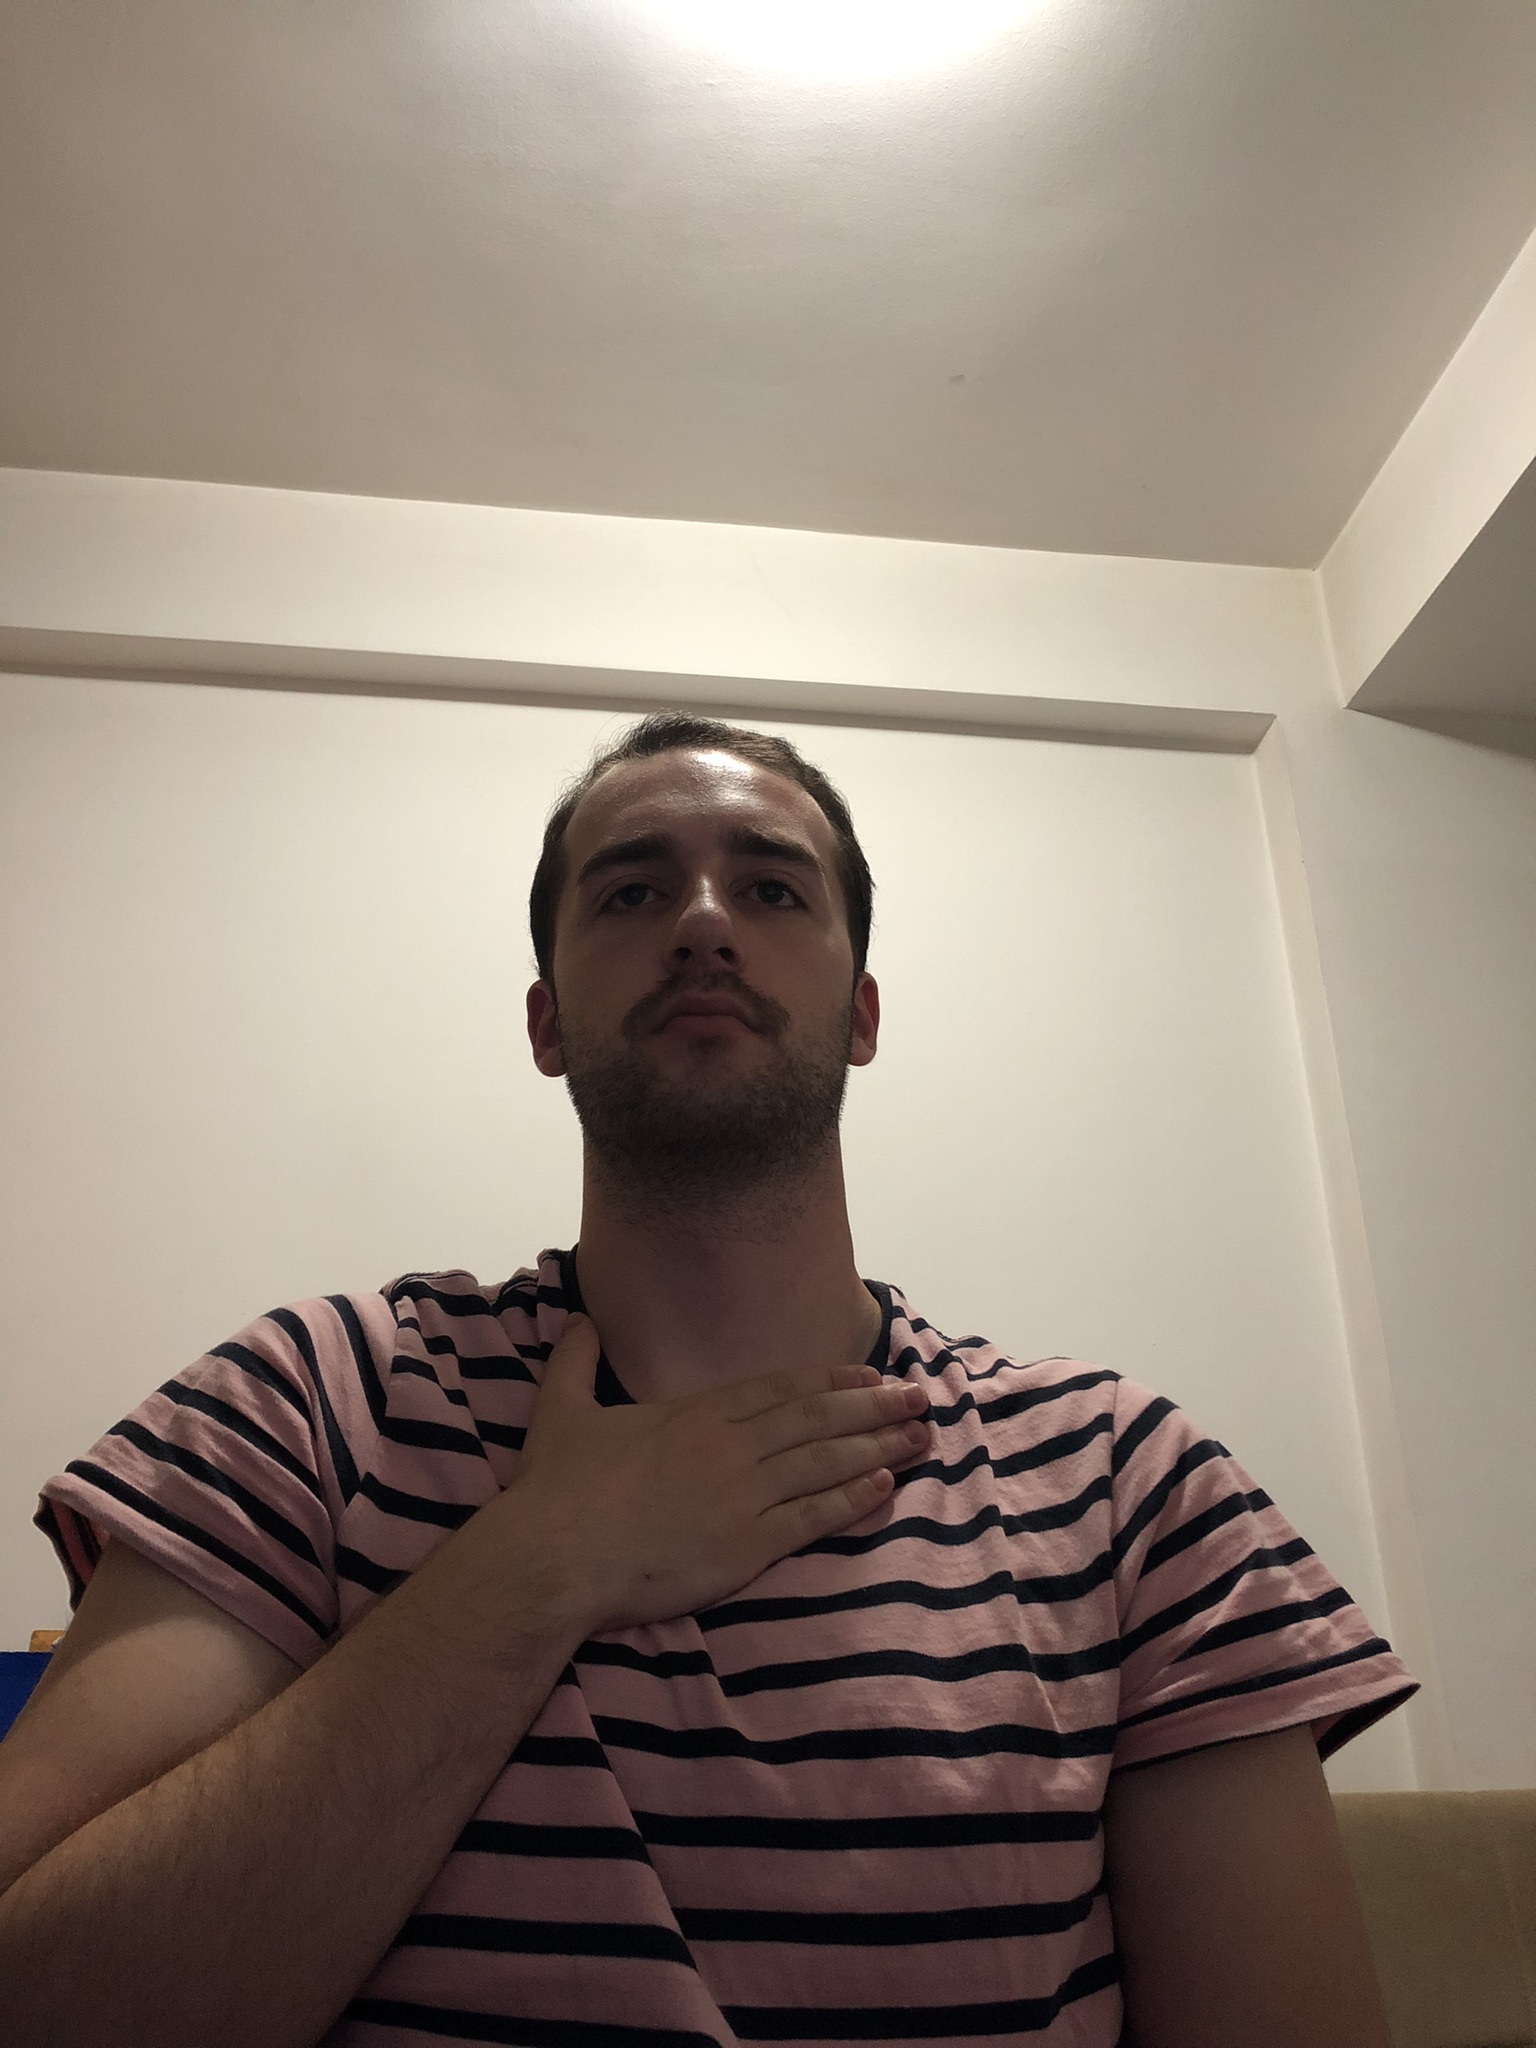Please: (3, 1308, 936, 2048)
